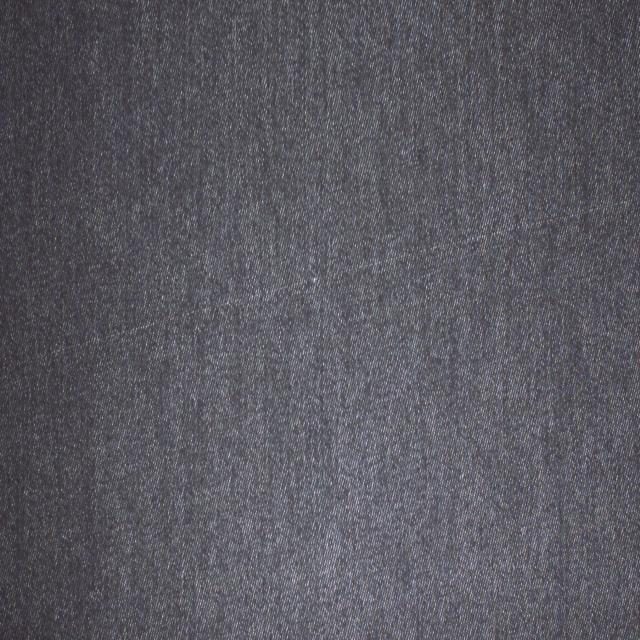pulled_or_thick_thread: (16, 188, 629, 388)
